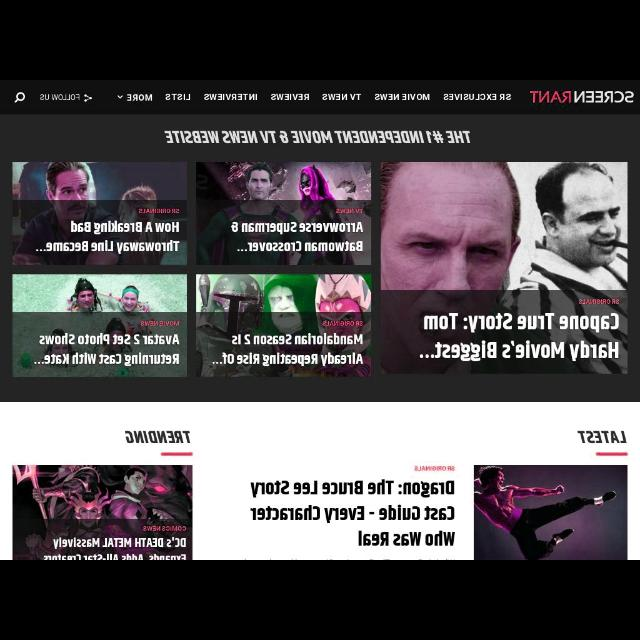backgroundimage: (381, 162, 627, 290), (14, 465, 192, 519), (197, 274, 371, 312), (197, 162, 371, 200), (12, 162, 186, 200), (13, 275, 187, 311)
icon: (14, 92, 26, 104), (84, 94, 92, 102), (116, 94, 124, 100)
image: (474, 465, 628, 559), (530, 91, 634, 103)
panel: (1, 115, 640, 402), (380, 162, 628, 374), (12, 274, 188, 378), (12, 162, 188, 266), (196, 162, 372, 266), (196, 275, 372, 377), (12, 465, 192, 559)
spinner: (117, 95, 153, 102)
text: (250, 480, 454, 546), (419, 313, 619, 361), (212, 333, 362, 367), (34, 334, 180, 368), (35, 222, 178, 254), (164, 130, 470, 144), (231, 222, 363, 252), (44, 537, 186, 559), (125, 431, 191, 444), (576, 431, 628, 444), (443, 93, 511, 101), (374, 94, 430, 100), (204, 94, 258, 100), (142, 525, 186, 531), (138, 208, 180, 214), (322, 94, 362, 100), (270, 94, 310, 100), (40, 94, 80, 100), (414, 466, 454, 472), (126, 95, 152, 102), (578, 300, 620, 304), (336, 208, 364, 214), (322, 322, 364, 326), (140, 322, 180, 326), (165, 94, 191, 100)
toolbar: (1, 80, 639, 114)
